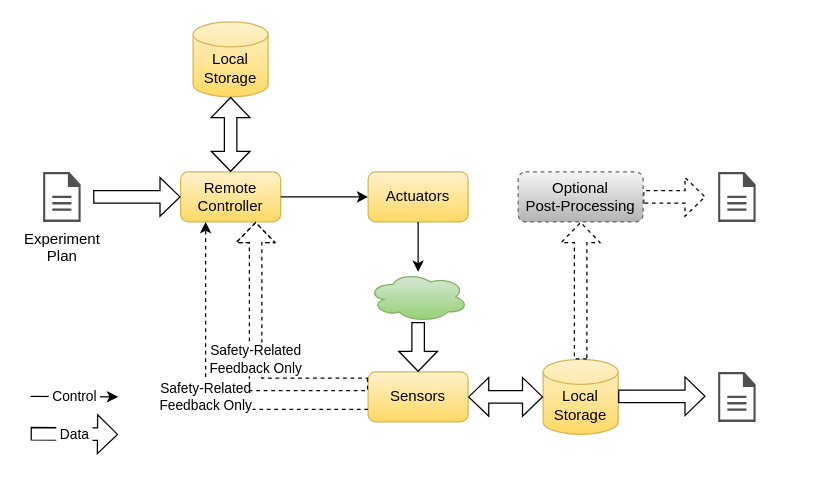
Some shapes in this 820 by 489 pixel diagram are drawn without their labels. Each missing label, with the box of its shape:
Optional Post-Processed Experiment Result: (718, 171, 755, 221)
Raw Experiment Result: (718, 371, 755, 421)
Test: (367, 271, 468, 322)
